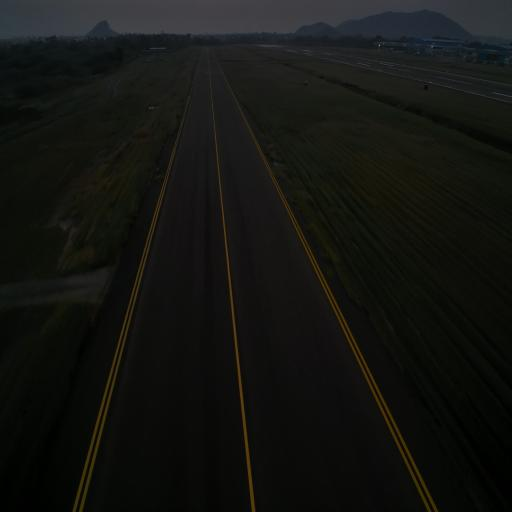on: (273, 158, 279, 164), (156, 165, 160, 173)
